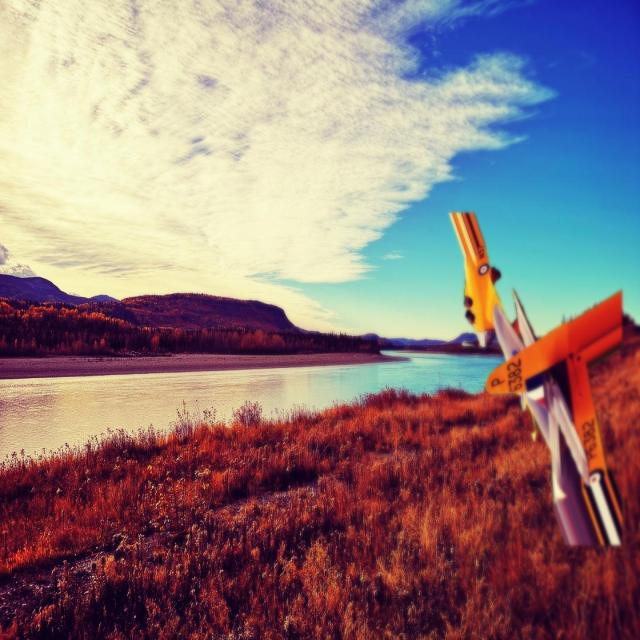airplane: (447, 208, 624, 546)
